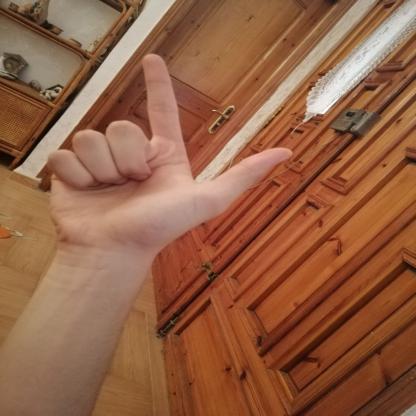LAAM: (23, 40, 312, 264)
